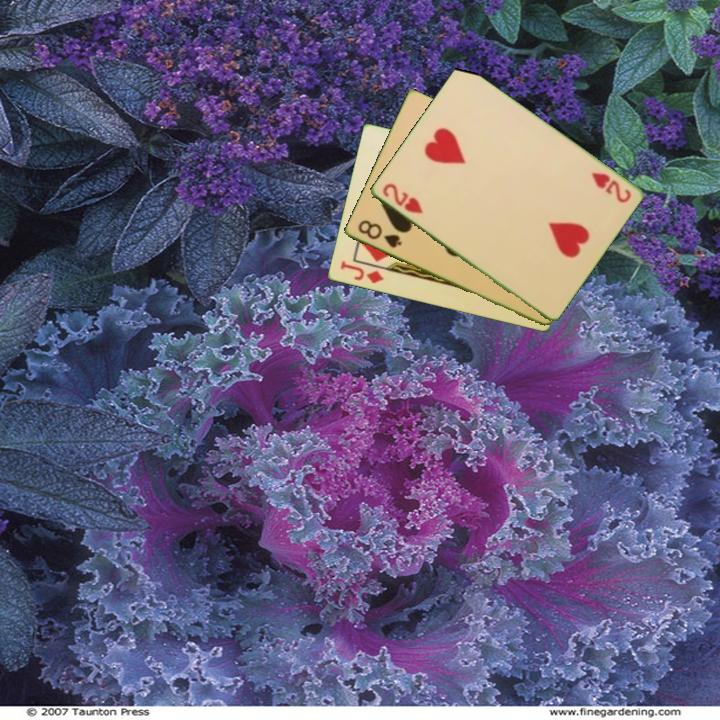2h: (379, 179, 426, 217), (588, 169, 634, 206)
8s: (354, 216, 404, 251)
Jd: (337, 258, 386, 287)
